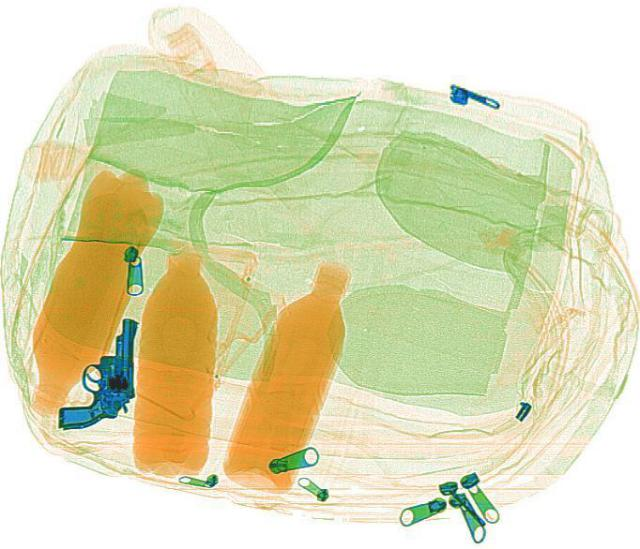Gun: (48, 310, 162, 441)
